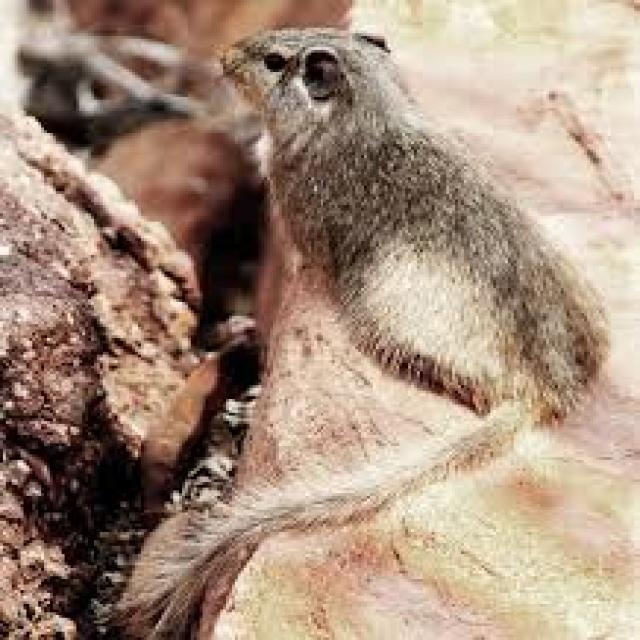rat: (103, 22, 637, 637), (214, 22, 614, 430)
